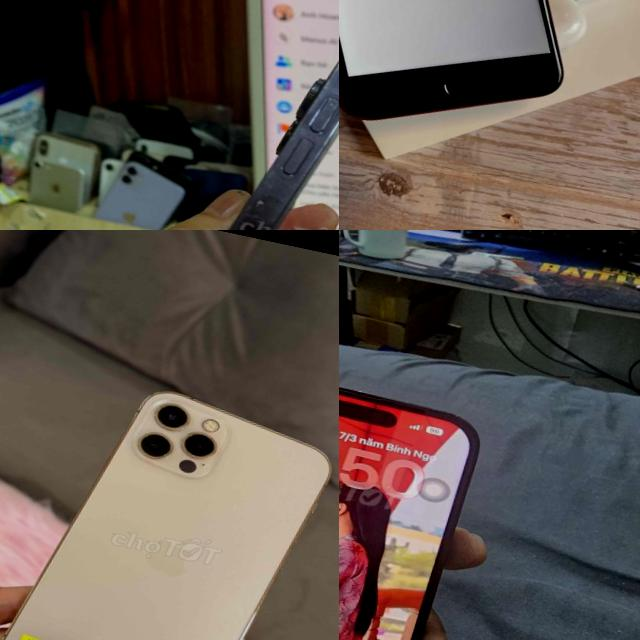gen_12_13: (0, 360, 339, 640)
gen_14: (76, 0, 339, 230), (339, 348, 481, 640)
gen_7_8: (339, 0, 640, 151)
